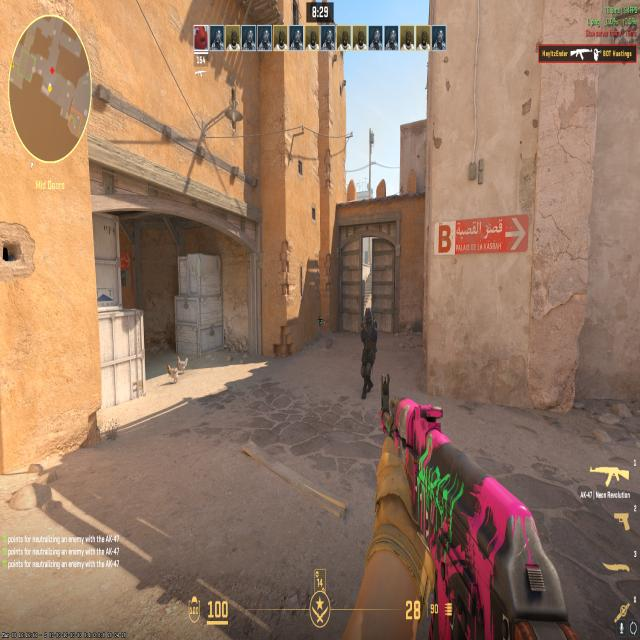ct: (356, 296, 379, 404)
